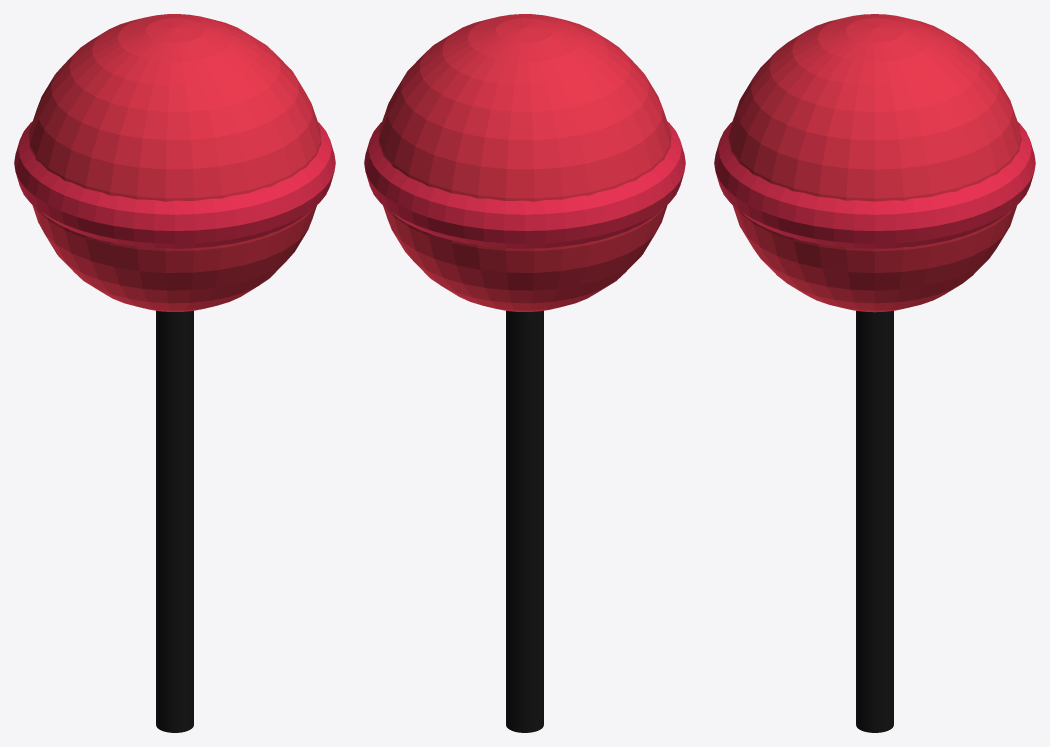
Rendered from Pop.fbx.
3 views of the same model, side by side, from view 1: azimuth 30°, elevation 25°; view 2: azimuth 150°, elevation 25°; view 3: azimuth 270°, elevation 25° (orthographic).
Visible parts, largest first — view 1: Sphere, Cylinder, Torus; view 2: Sphere, Cylinder, Torus; view 3: Sphere, Cylinder, Torus.
Part boxes in pixels (x1,y1,x2,y2): Sphere: [28, 14, 321, 311]; Cylinder: [156, 310, 193, 732]; Torus: [14, 121, 335, 248]; Sphere: [378, 14, 671, 311]; Cylinder: [506, 310, 543, 732]; Torus: [364, 121, 685, 248]; Sphere: [728, 14, 1021, 312]; Cylinder: [856, 311, 893, 732]; Torus: [714, 122, 1035, 248].
Bounding box in the file's own units: 216 × 515 × 216.
